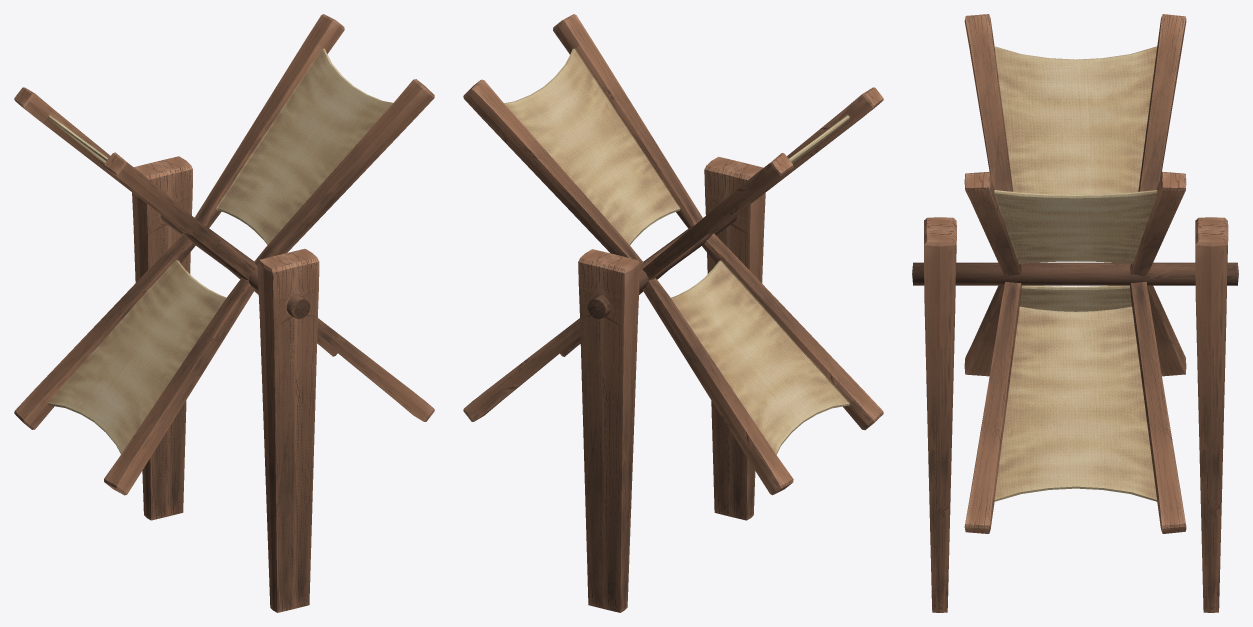
Rendered from windmill.fbx.
3 renders of one model, left to right at view 1: azimuth 30°, elevation 25°; view 2: azimuth 150°, elevation 25°; view 3: azimuth 270°, elevation 25°, orthographic. The views are drawn at different scales.
Parts seen in each view (by area): view 1: paddles, stand; view 2: paddles, stand; view 3: paddles, stand.
Boxes of the visible parts, left/top/right/bottom form: paddles: left=14, top=14, right=434, bottom=495; stand: left=132, top=156, right=319, bottom=612; paddles: left=463, top=14, right=883, bottom=495; stand: left=578, top=156, right=765, bottom=612; paddles: left=912, top=14, right=1238, bottom=533; stand: left=924, top=217, right=1228, bottom=612.
Size of the model in its own units: 3.92 by 5.53 by 3.21.
